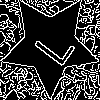L: (25, 19, 77, 69)
